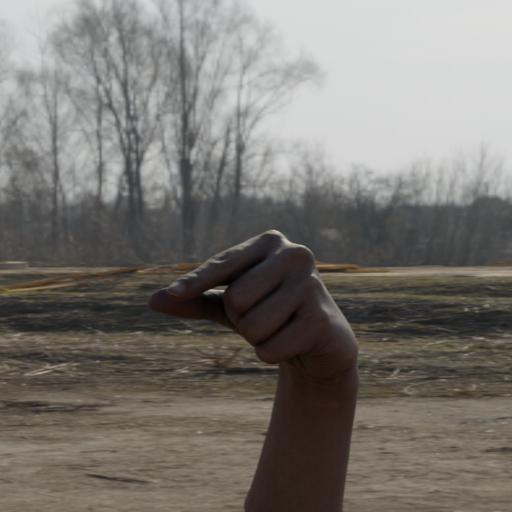G: (144, 196, 372, 414)
